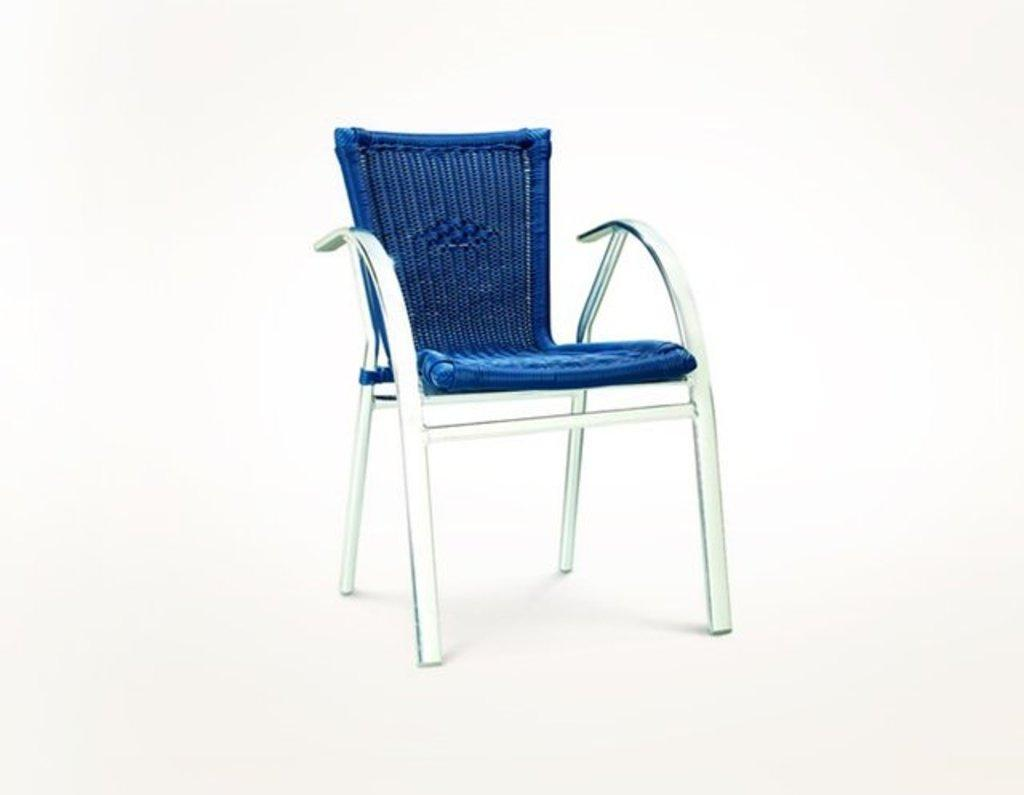Chair: (299, 115, 723, 637)
